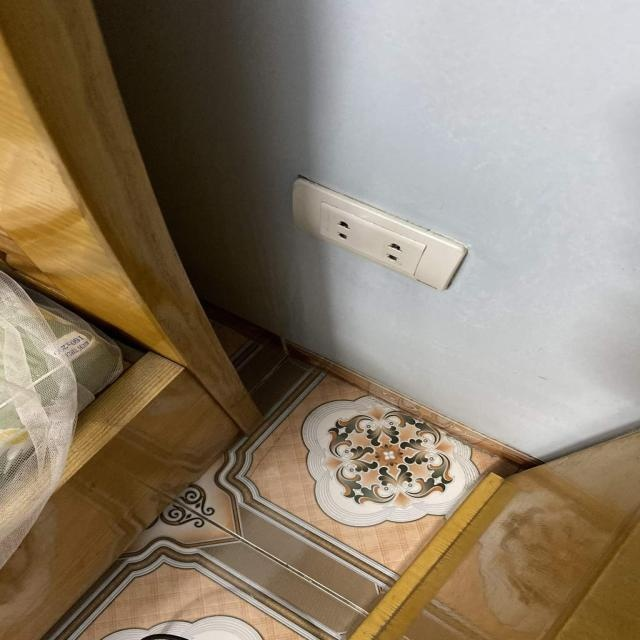outlet: (290, 175, 467, 292)
